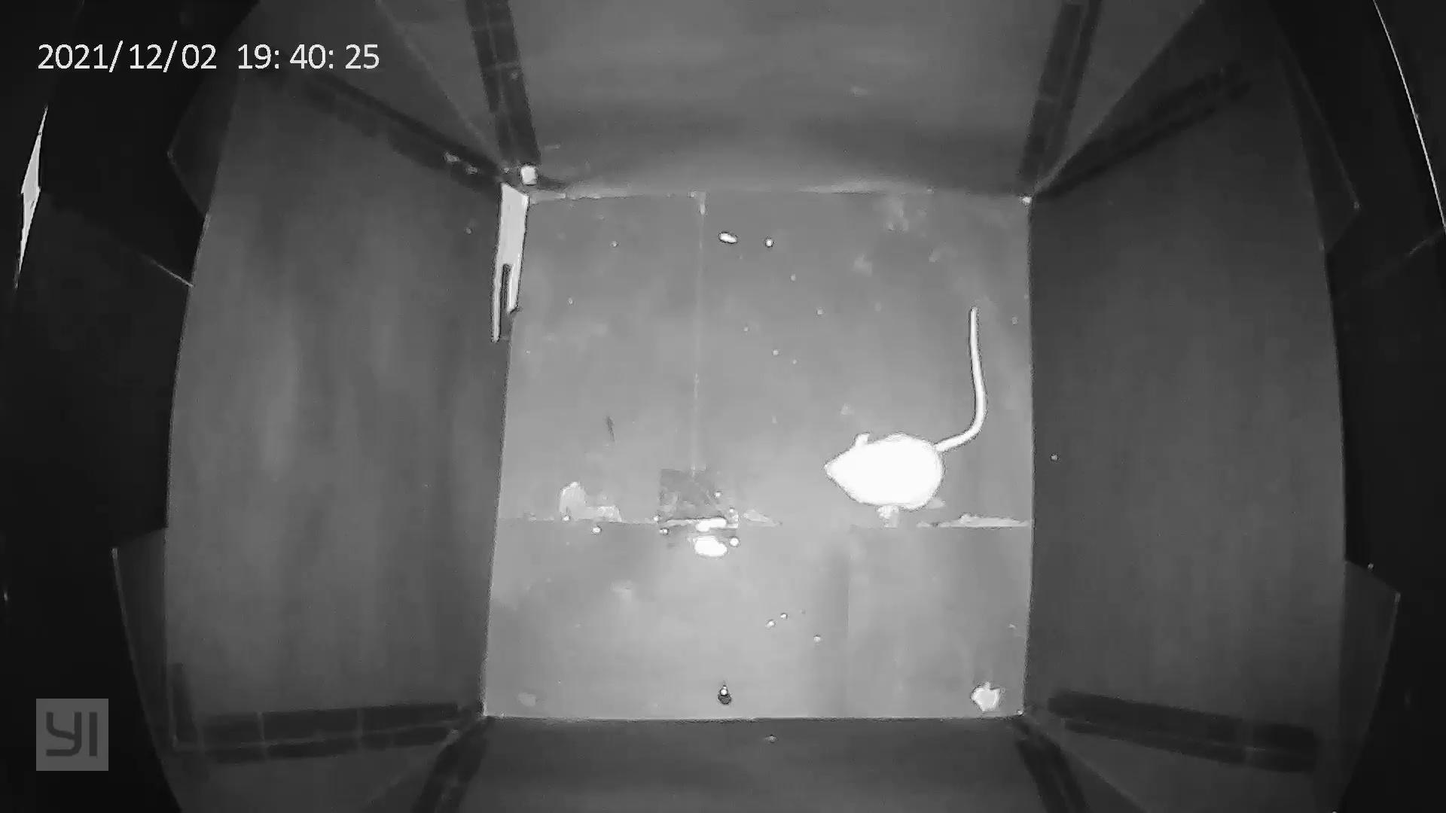rat: (819, 285, 1007, 534)
